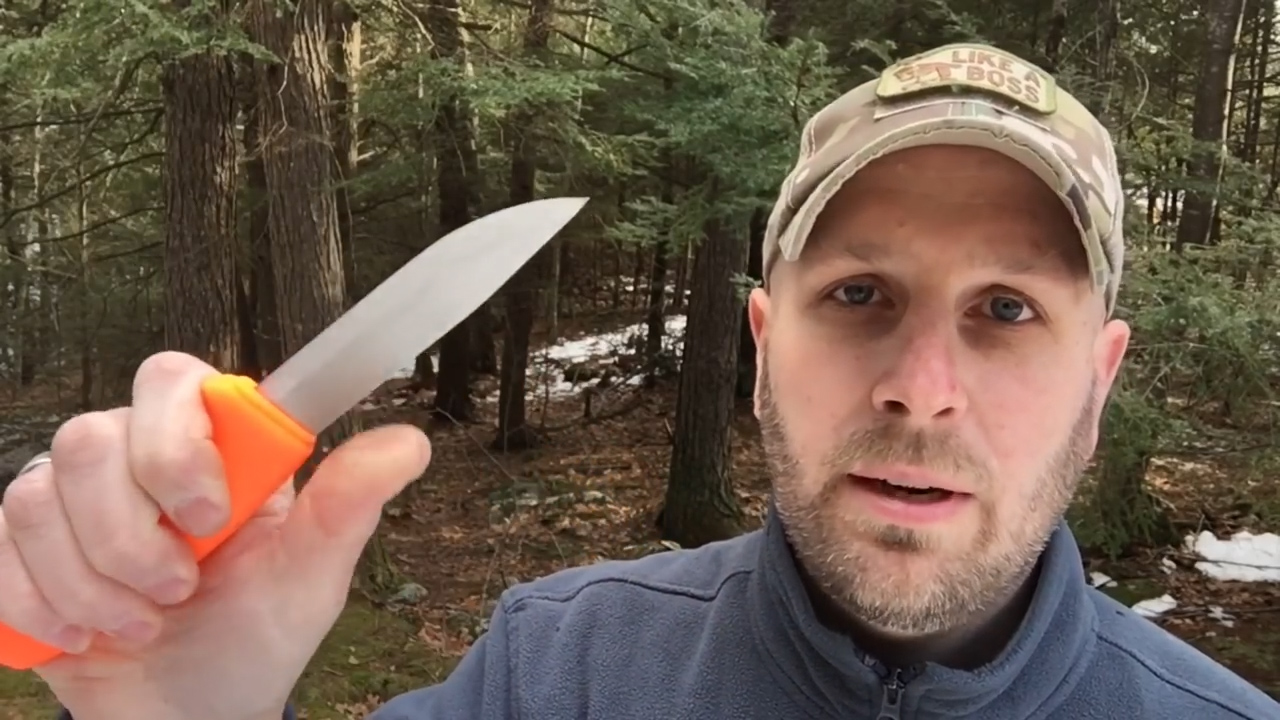knife: (118, 185, 603, 566)
